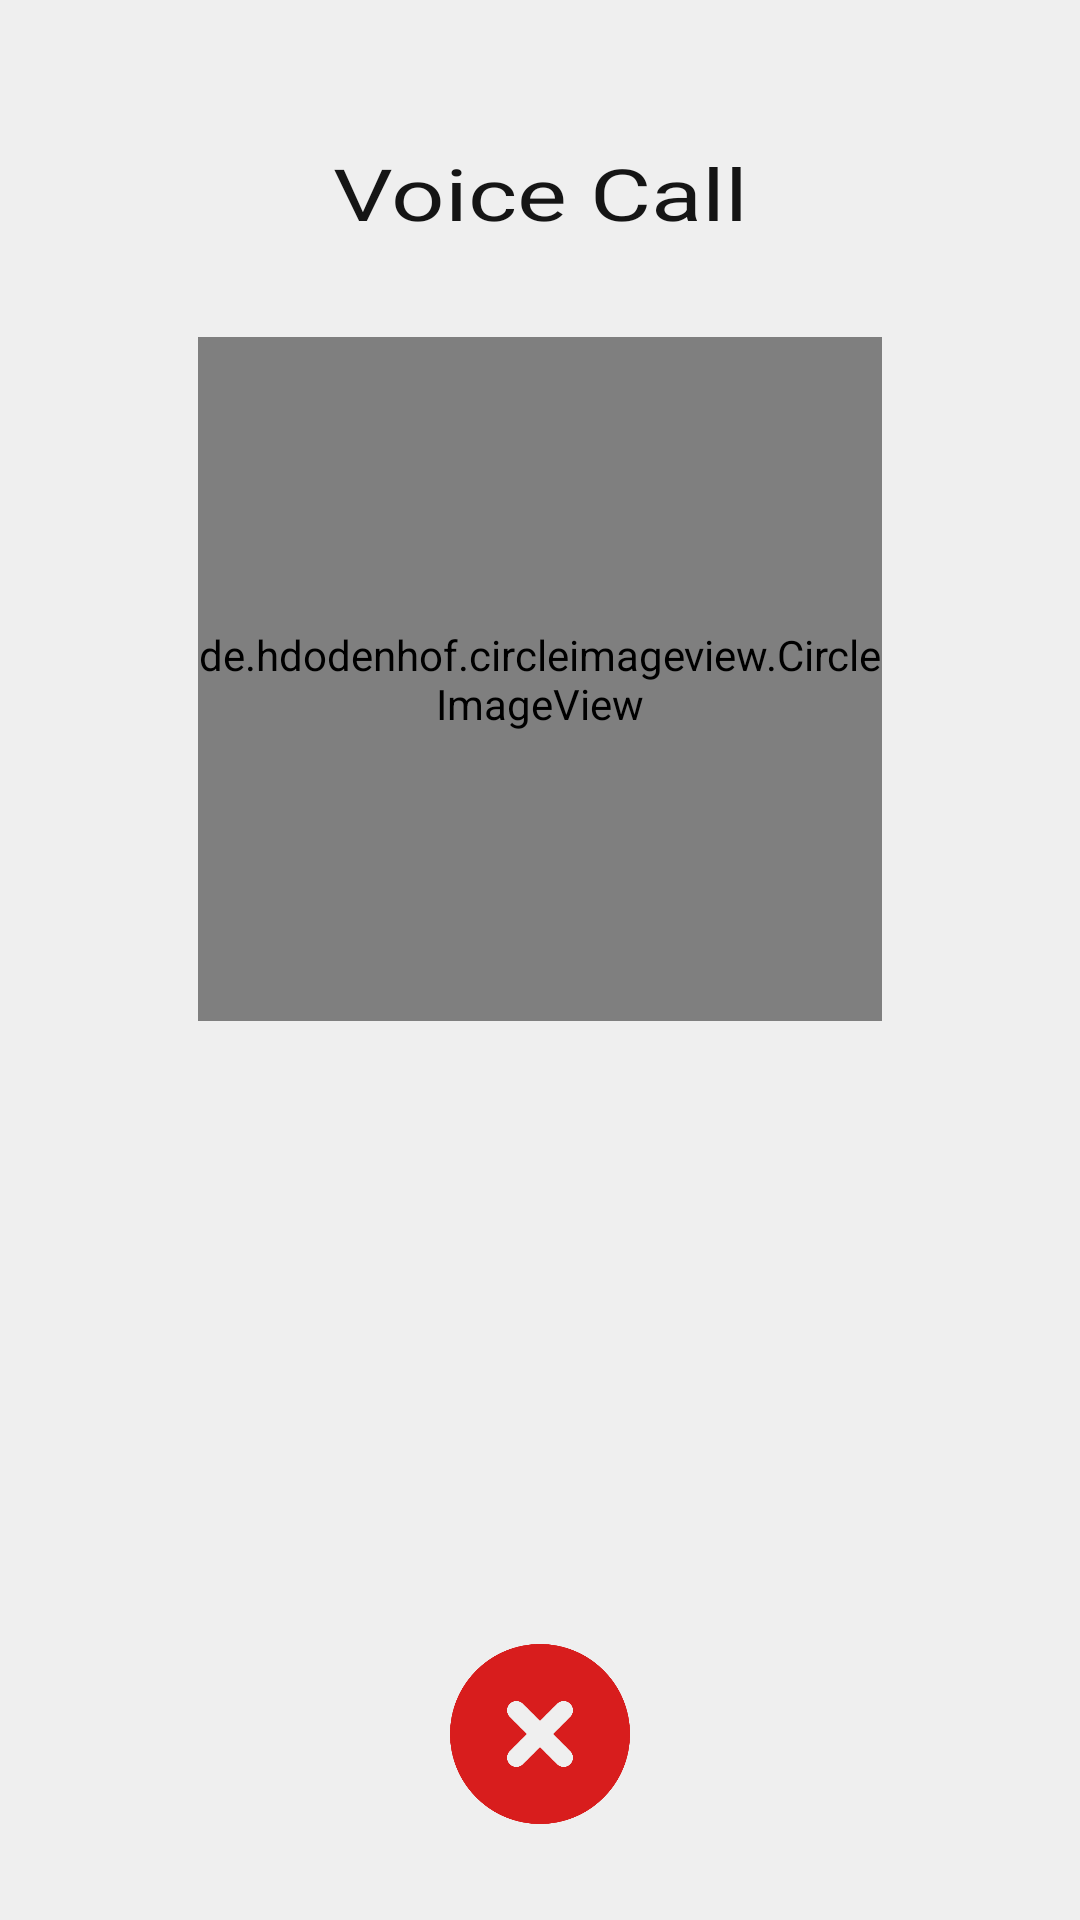

Icons on this 1080×1920 Android screen, each with the point to tap as (x=x, y=y):
call hang up: (x=540, y=1734)
